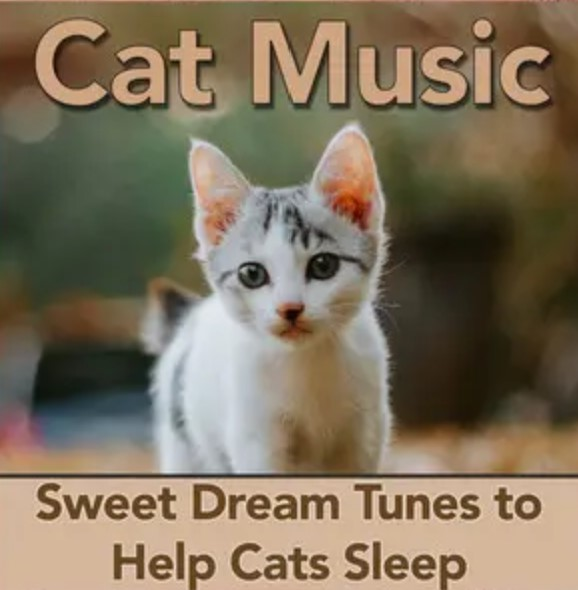cat: (140, 118, 397, 474)
